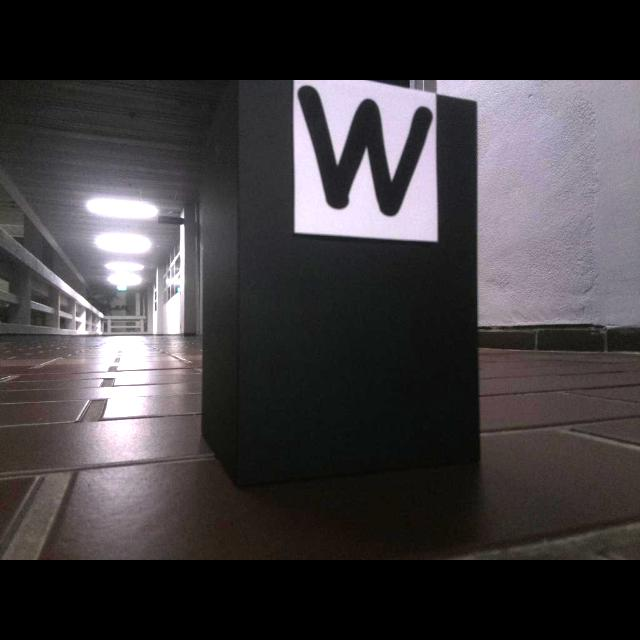W: (296, 83, 435, 218)
